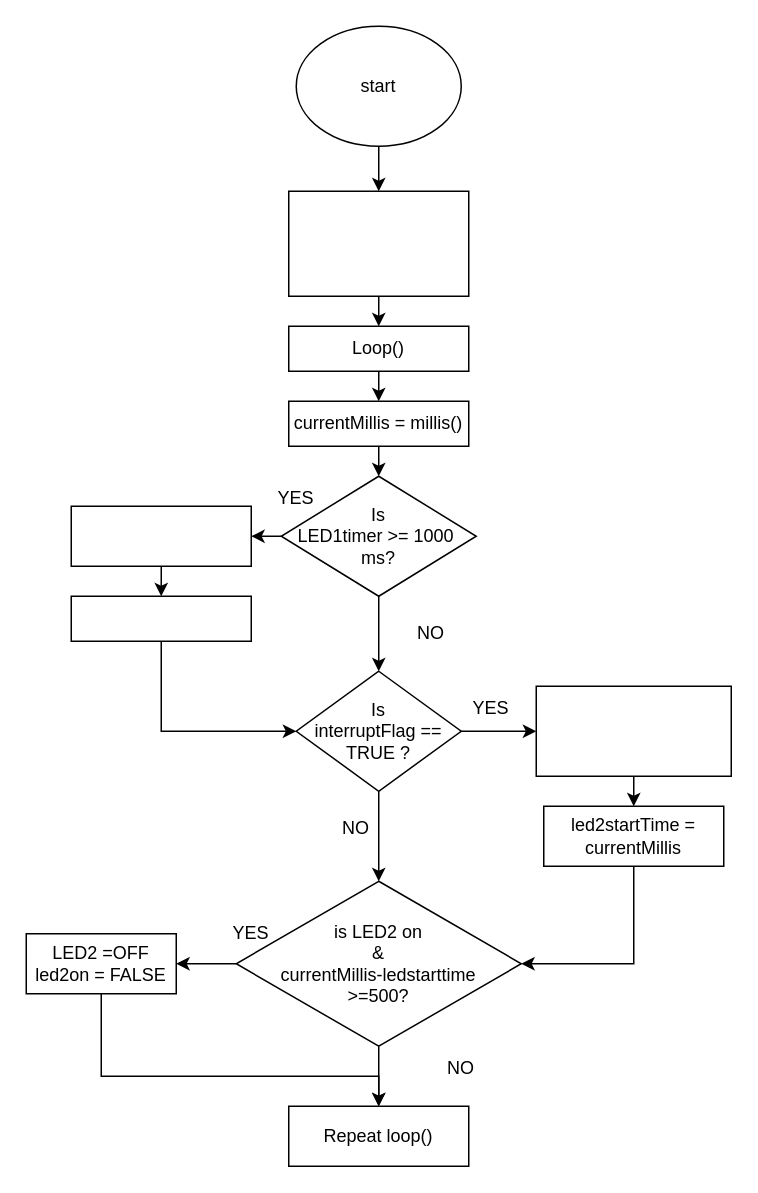
Image size: 758x1193. Some labels were removed from this diagram. Each missing label, with the centre of its shape:
interruptFlag = FALSE LED2 = ON: (x=633, y=730)
previousMillis = currentMillis: (x=160, y=535)
setup() LED1,LED2 Button - Attach Interrupt: (x=378, y=243)
Toggle LED1: (x=160, y=618)
